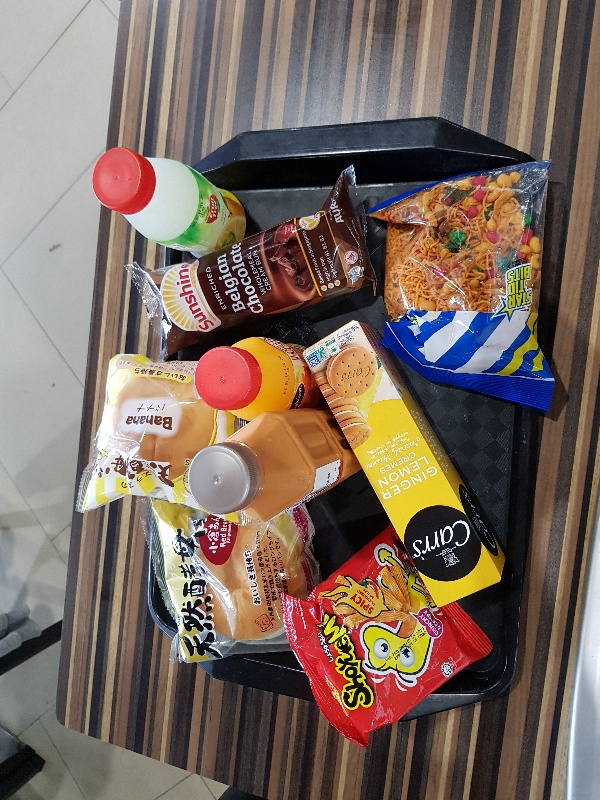Carr's Ginger Lemon Cremes: (303, 319, 505, 607)
Dayplus Banana: (77, 352, 243, 522)
Dayplus Red Bean: (145, 499, 322, 662)
Fruit Tree Yuzu Mixed Juice Drink: (91, 146, 247, 255)
ShoyueMi Spicy Flavoured Snacks: (280, 524, 492, 746)
Star Tidbits Mixer: (370, 159, 556, 411)
Sunkist Orange Juice Drink: (193, 335, 319, 421)
Sunshine Belgium Chocolate Wholemeal Cream Bun: (131, 171, 377, 352)
Thai Milk Tea: (186, 409, 362, 521)
